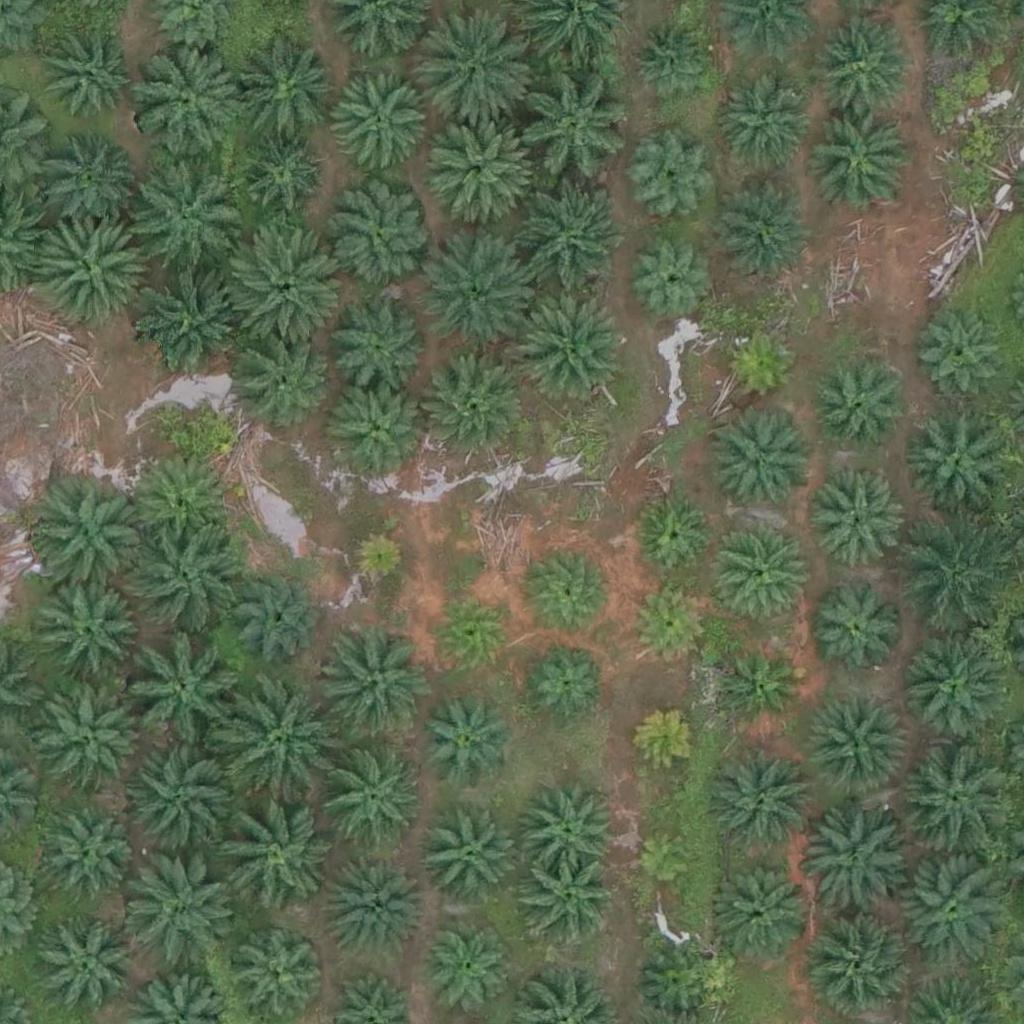Kelapa_Sawit: (898, 857, 1011, 971), (705, 741, 818, 855), (423, 17, 536, 131), (901, 739, 1014, 852), (803, 807, 916, 920), (124, 742, 237, 855), (899, 403, 1012, 516), (900, 526, 1013, 639), (510, 74, 623, 187), (125, 148, 238, 261), (138, 265, 251, 378), (32, 212, 145, 325), (221, 689, 334, 802), (127, 638, 240, 751), (32, 481, 145, 594), (123, 859, 235, 973), (509, 189, 621, 303), (513, 293, 625, 407), (415, 350, 527, 464), (128, 46, 240, 160), (217, 798, 329, 911), (423, 239, 535, 352), (423, 112, 535, 225), (230, 36, 342, 149), (230, 224, 342, 337), (318, 625, 430, 738), (133, 521, 245, 634), (35, 671, 147, 784), (804, 694, 904, 795), (817, 917, 917, 1018), (718, 858, 818, 959), (518, 778, 618, 879), (412, 691, 512, 792), (419, 807, 519, 908), (325, 747, 425, 848), (230, 920, 330, 1021), (35, 917, 135, 1018), (813, 20, 913, 121), (809, 112, 909, 213), (810, 352, 910, 453), (810, 462, 910, 563), (803, 585, 903, 686), (714, 68, 814, 169), (715, 177, 815, 278), (708, 414, 808, 515), (707, 522, 807, 623), (329, 74, 429, 175), (329, 186, 429, 287), (331, 295, 431, 396), (226, 334, 326, 435), (39, 131, 139, 232), (43, 18, 143, 119), (132, 451, 232, 552), (40, 585, 140, 686), (321, 862, 421, 962), (908, 636, 1008, 736), (331, 381, 431, 481), (422, 929, 510, 1018), (527, 858, 615, 946), (718, 318, 806, 406), (526, 546, 614, 634), (526, 638, 614, 726), (624, 578, 712, 666), (632, 489, 720, 577), (914, 309, 1002, 397), (627, 234, 715, 322), (631, 126, 719, 214), (234, 132, 322, 220), (239, 571, 327, 659), (47, 812, 134, 900), (427, 588, 514, 676), (717, 638, 804, 726), (629, 18, 716, 106), (629, 700, 704, 776), (344, 529, 407, 592), (634, 829, 696, 892)
